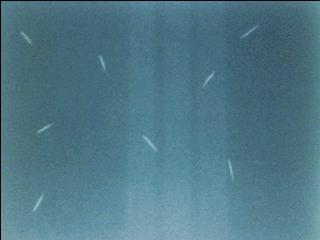scratch: (222, 155, 241, 187), (237, 20, 261, 44), (197, 68, 217, 93), (139, 132, 159, 155), (17, 27, 36, 49), (35, 121, 56, 137), (32, 191, 46, 214), (96, 52, 109, 75)
